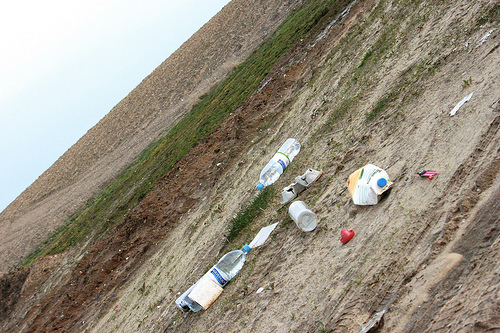litter: (173, 244, 251, 314), (255, 138, 301, 189), (346, 162, 393, 207), (280, 167, 321, 200), (288, 202, 318, 233), (251, 221, 280, 247), (448, 94, 473, 116), (415, 168, 440, 180), (338, 228, 355, 245)
